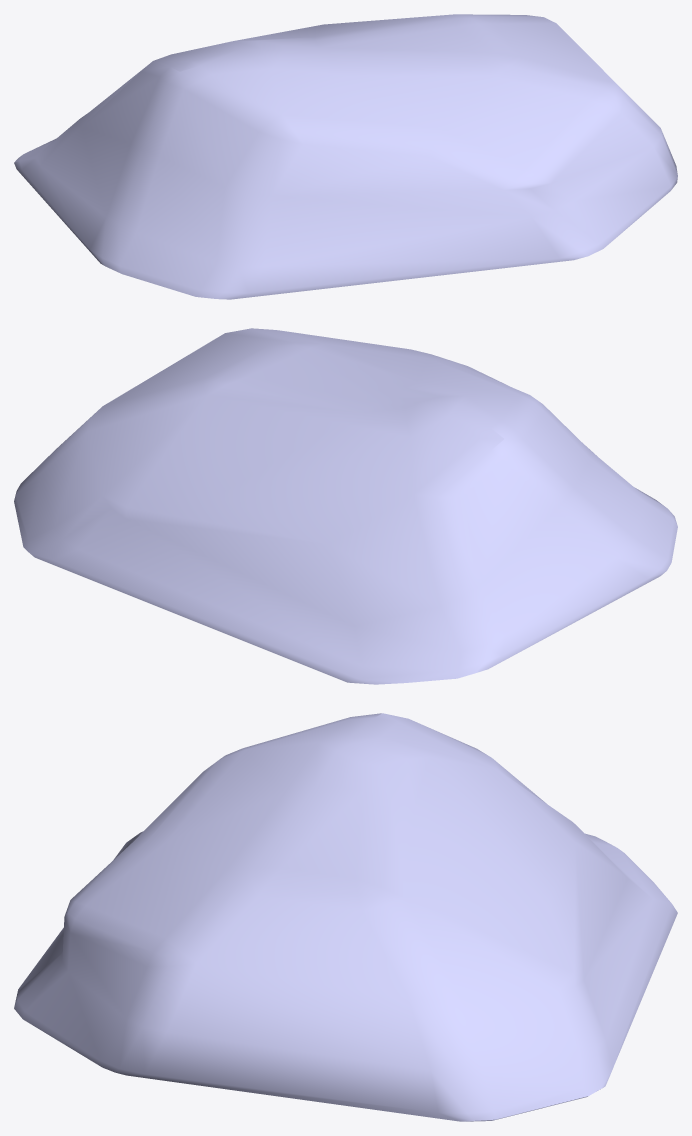
File: SnowPile02.fbx
3 renders of one model, top to bottom at view 1: azimuth 30°, elevation 25°; view 2: azimuth 150°, elevation 25°; view 3: azimuth 270°, elevation 25°, orthographic. The views are drawn at different scales.
Visible parts, largest first — view 1: SnowPile2; view 2: SnowPile2; view 3: SnowPile2.
Boxes of the visible parts, x1=… form: SnowPile2: x1=14, y1=14, x2=677, y2=299; SnowPile2: x1=14, y1=328, x2=677, y2=684; SnowPile2: x1=14, y1=713, x2=677, y2=1121.
Bounding box in the file's own units: 1112 × 314 × 972.
